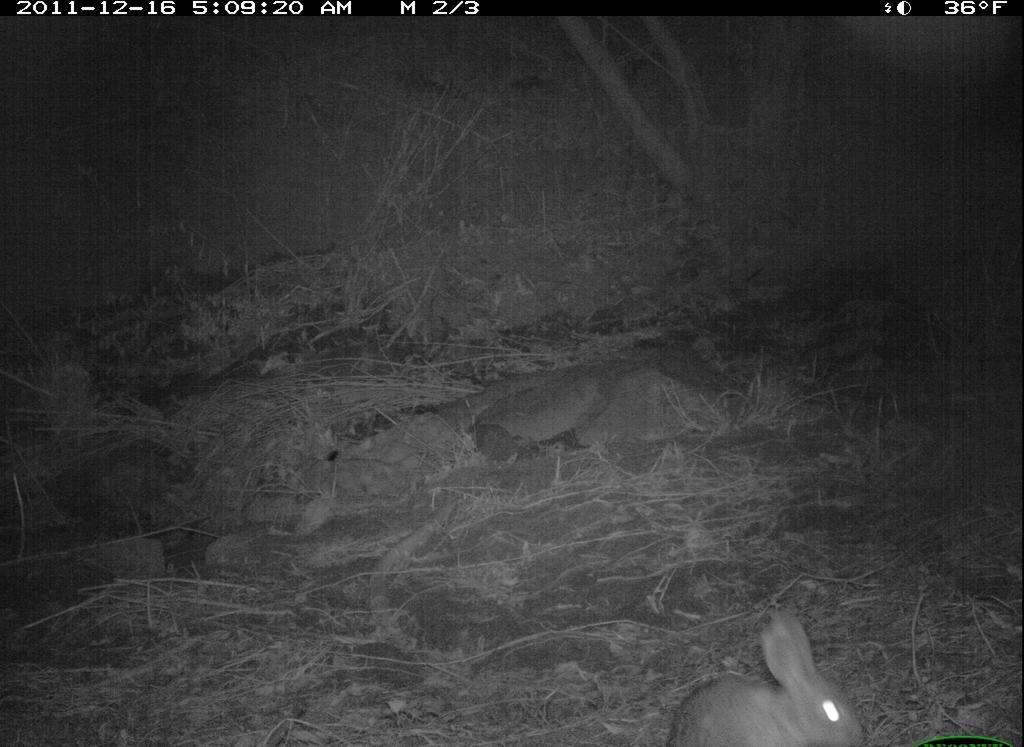rabbit: (670, 609, 871, 747)
